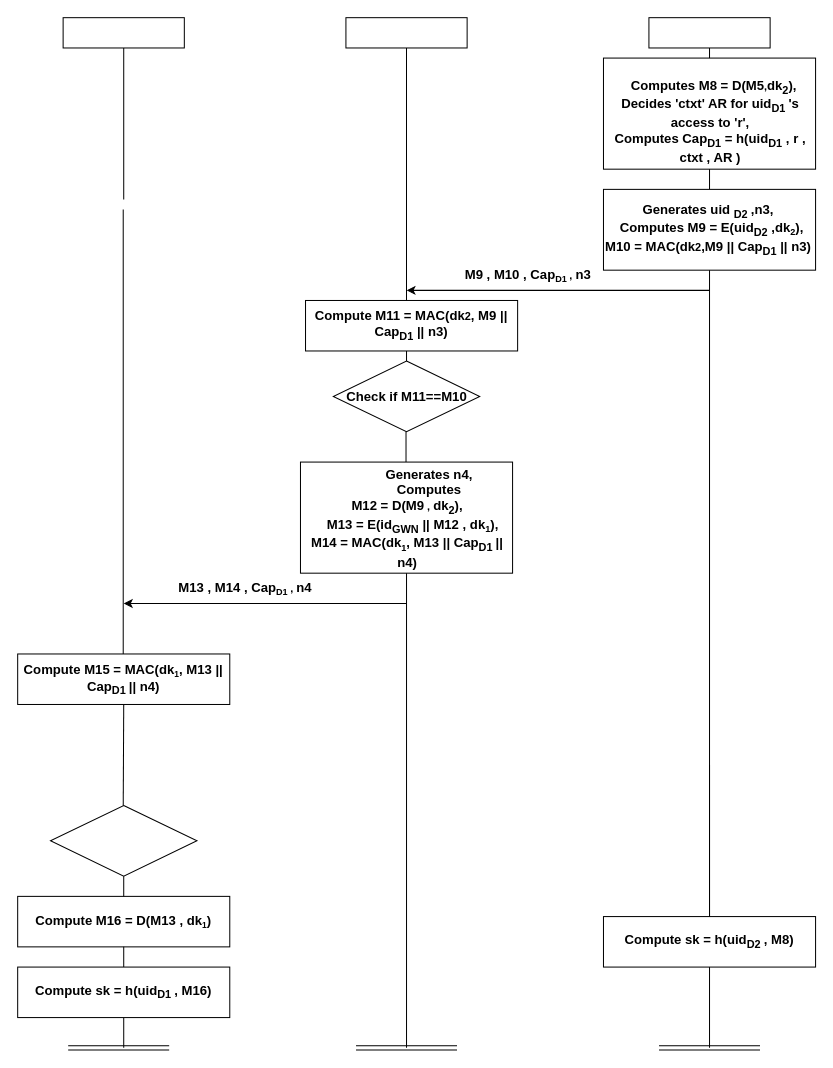
Image size: 833x1068. Some labels were removed from this diagram. Here are the shapes that lost their labels. From the top down, the centre of each, then its label:
At point (123, 32): "D1".
At point (406, 32): "GWN".
At point (709, 32): "D2".
At point (123, 840): "Check if M15 == M14".
